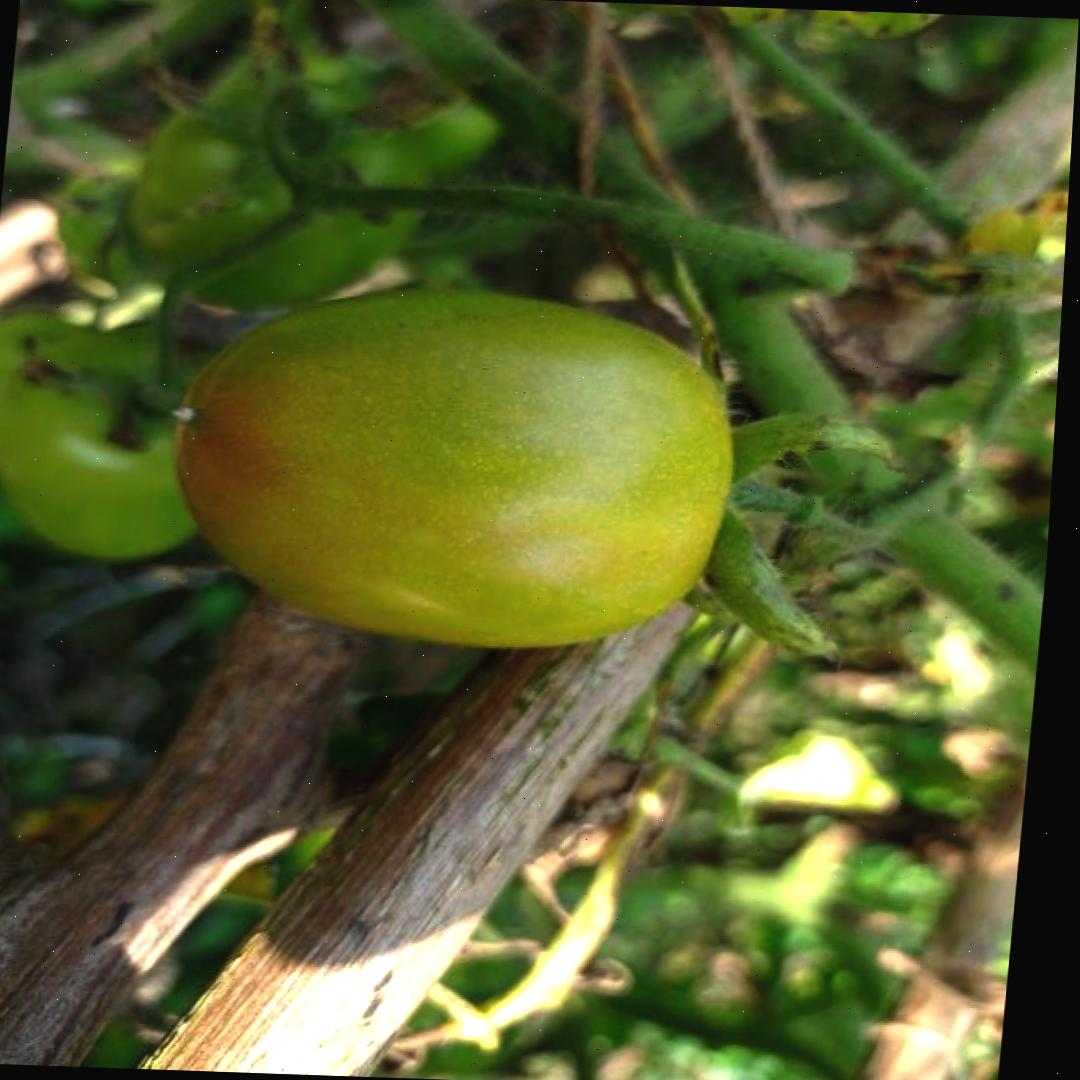setengah_matang: (150, 280, 753, 660)
